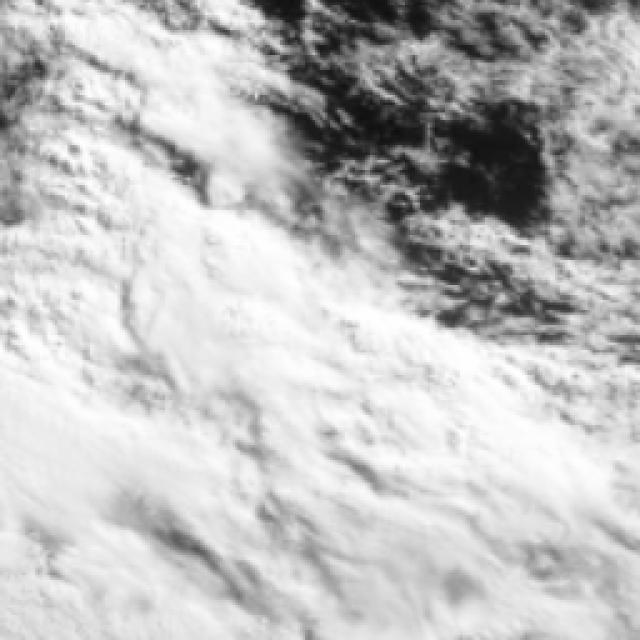CB: (109, 367, 354, 536), (282, 470, 500, 640), (460, 437, 640, 640), (318, 355, 518, 522), (0, 495, 215, 640), (82, 226, 270, 383), (0, 361, 163, 536)
